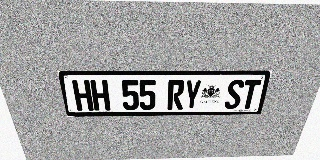5: (121, 80, 139, 110), (139, 80, 156, 110)
H: (72, 80, 94, 111), (90, 80, 110, 110)
R: (167, 80, 185, 110)
S: (224, 80, 245, 109)
T: (239, 79, 261, 109)
Y: (183, 80, 202, 109)
